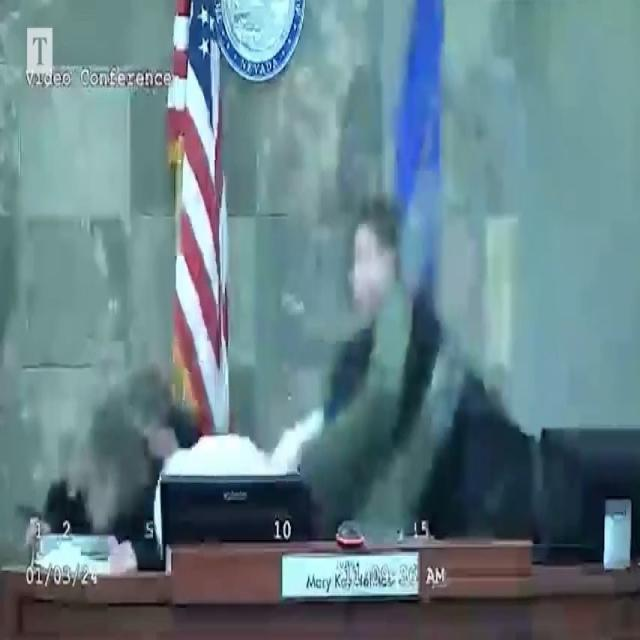fight: (316, 174, 461, 448), (78, 369, 288, 478)
